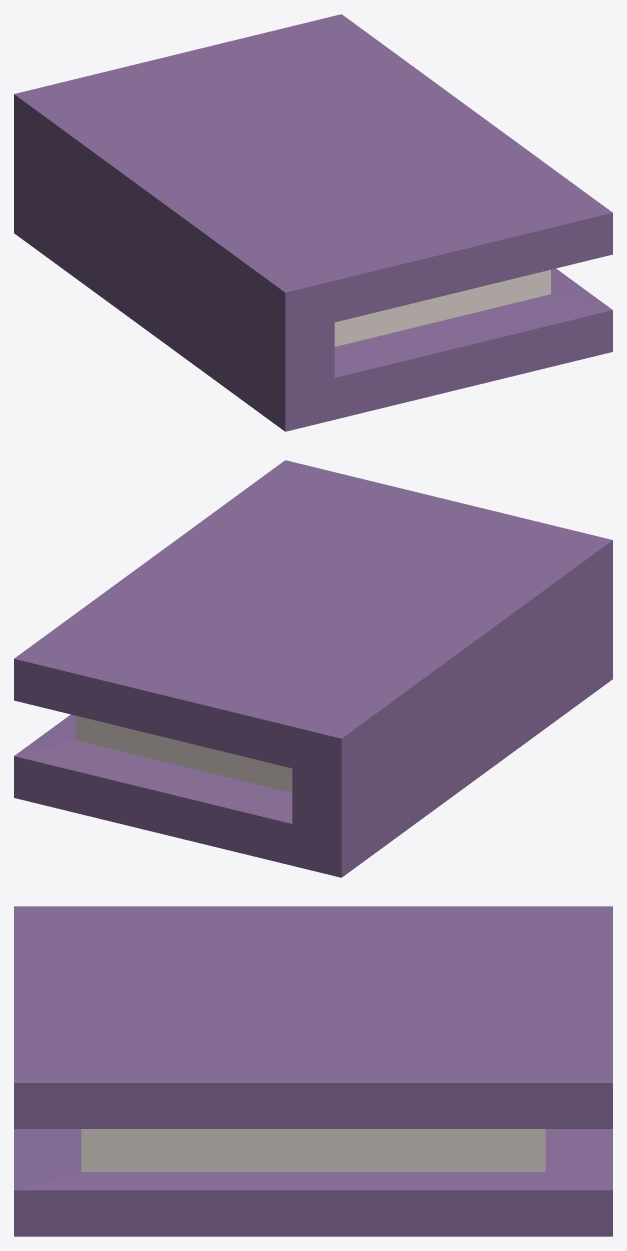
The model's file is Book 01 Purple.FBX.
The picture shows the model from 3 angles, top to bottom: view 1: azimuth 30°, elevation 25°; view 2: azimuth 150°, elevation 25°; view 3: azimuth 270°, elevation 25°; orthographic projection. The views are drawn at different scales.
Parts seen in each view (by area): view 1: Book 01 Purple; view 2: Book 01 Purple; view 3: Book 01 Purple.
Part boxes in pixels (x1,y1,x2,y2): Book 01 Purple: (14, 14, 612, 431); Book 01 Purple: (14, 460, 612, 877); Book 01 Purple: (14, 906, 612, 1236).
Bounding box in the file's own units: 38.56 × 15.65 × 55.32.
